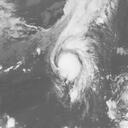cyclone: (48, 43, 98, 90)
